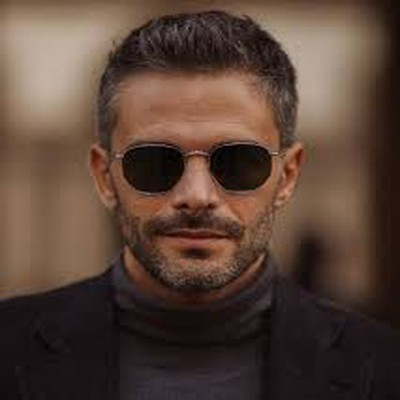eywear: (91, 114, 287, 210)
